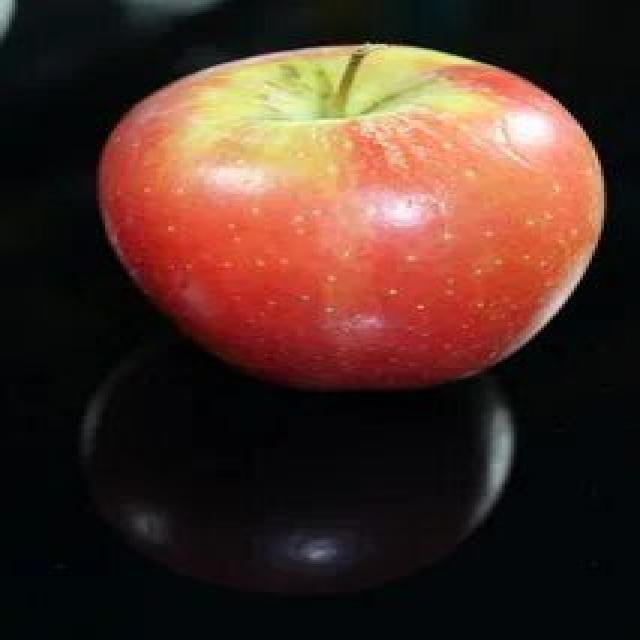Fresh Apple: (80, 48, 602, 385)
